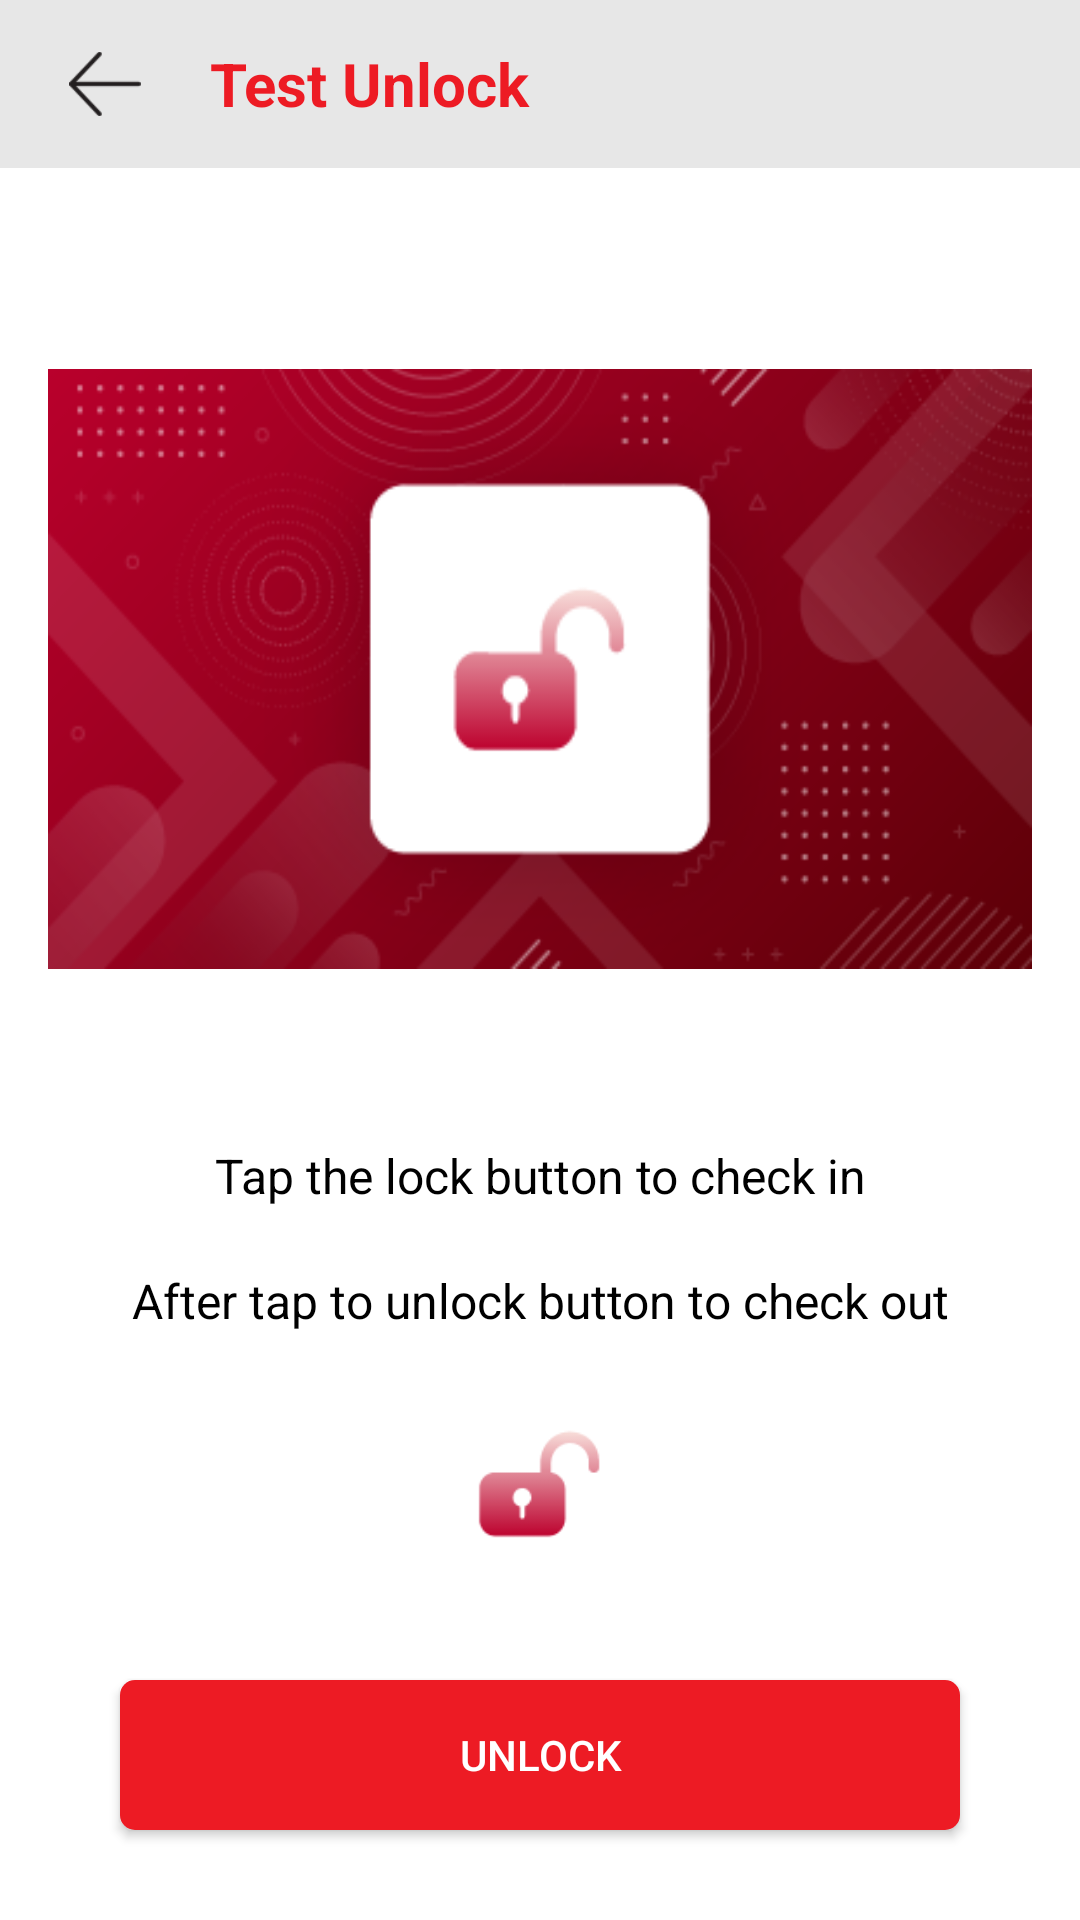

Icon click points for this 1080w x 1920h phone screenshot, format [x,y]:
back: [105,84]
